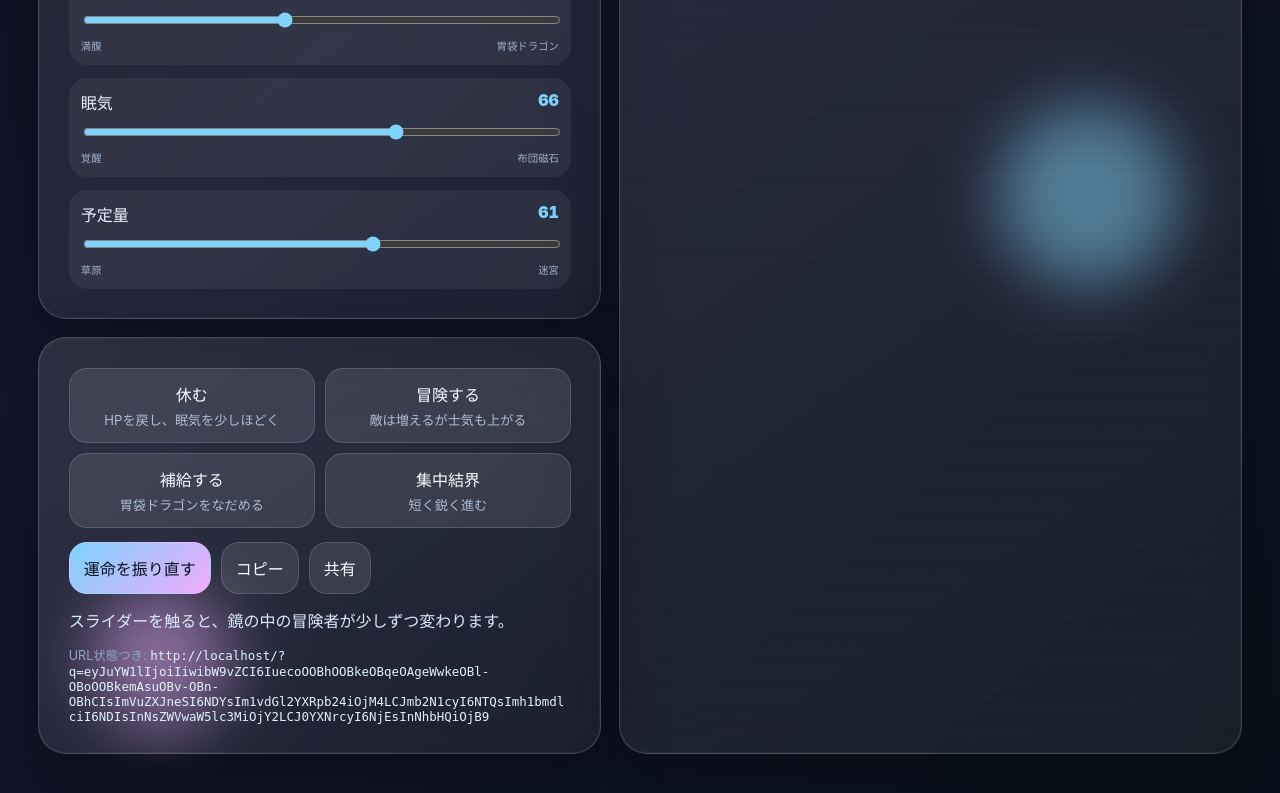
Test: App interactions › copies a shareable result
The image size is (1280, 793).
(page scrolled)
Click the button "コピー" at [260, 568], box x1=221 y1=542 x2=299 y2=594
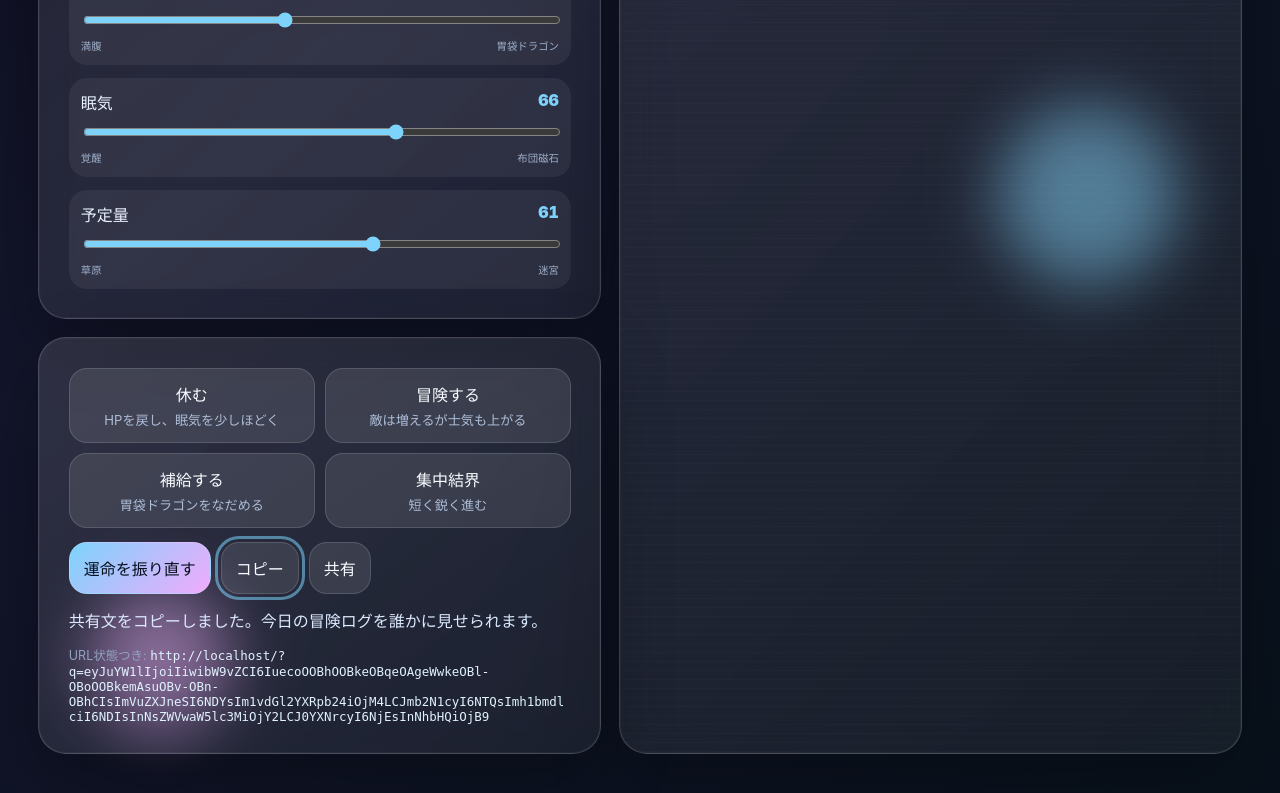
Check: the text "共有文をコピーしました。今日の冒険ログを誰かに見せられます。" is shown, box x1=69 y1=608 x2=571 y2=632
